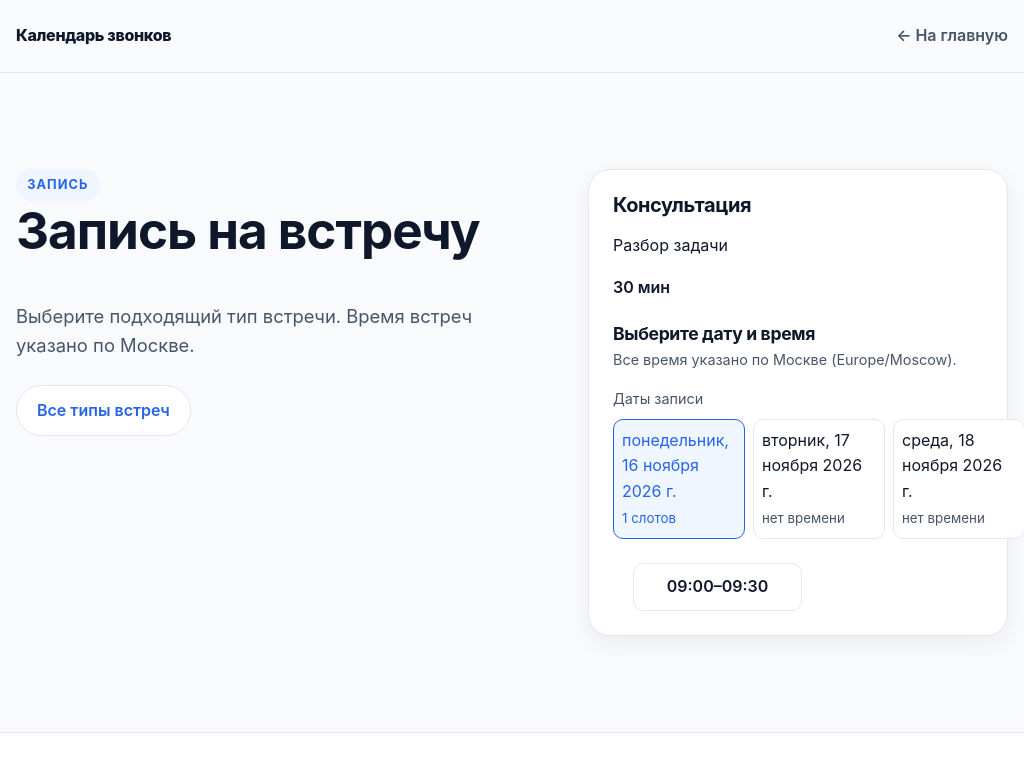
Test: BookingTypePage › loads availability for a direct link and reveals the form only after a slot is selected
Expected: the heading "Консультация" is shown, [613,193,751,217]
Expected: the text "30 мин" is shown, [613,277,670,297]
Click the button "09:00–09:30" at x=718, y=587, box [633,563,802,611]
(page scrolled)
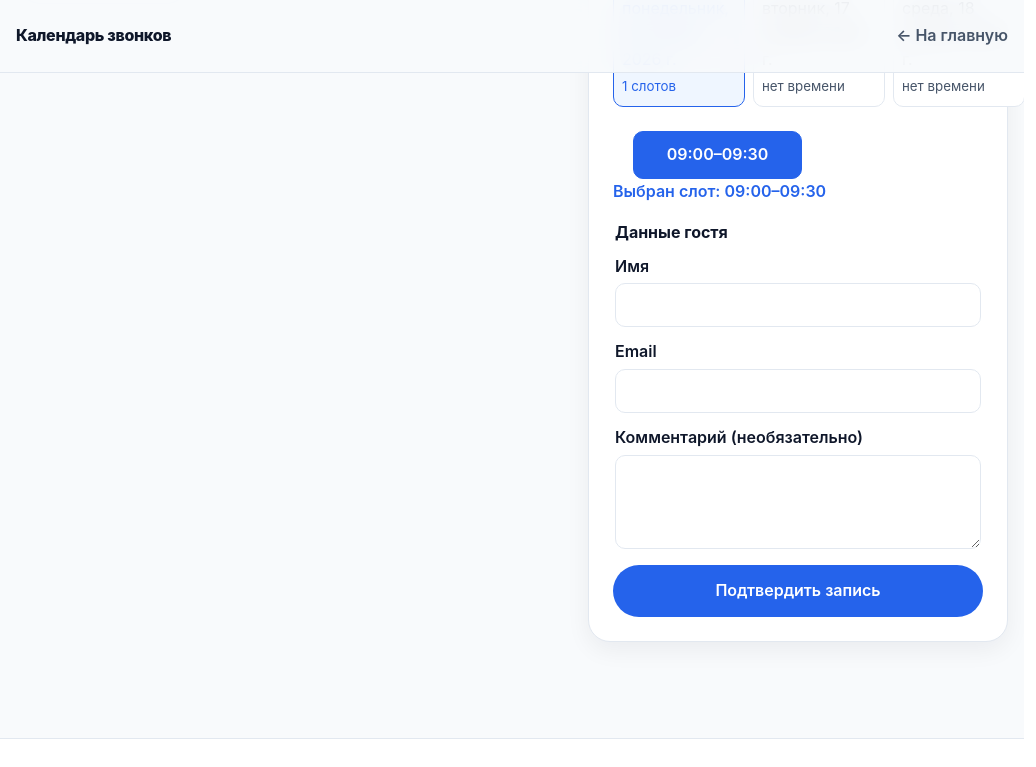
Expected: the text "Выбран слот: 09:00–09:30" is shown, [613,181,826,201]
Expected: the element "Данные гостя" is shown, [615,220,981,549]
